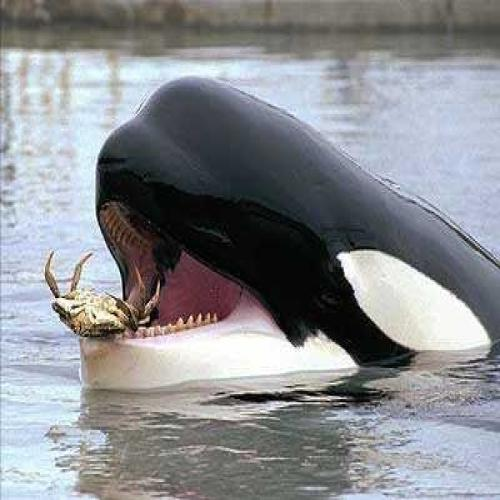killer_whale-endangered: (34, 40, 500, 391)
